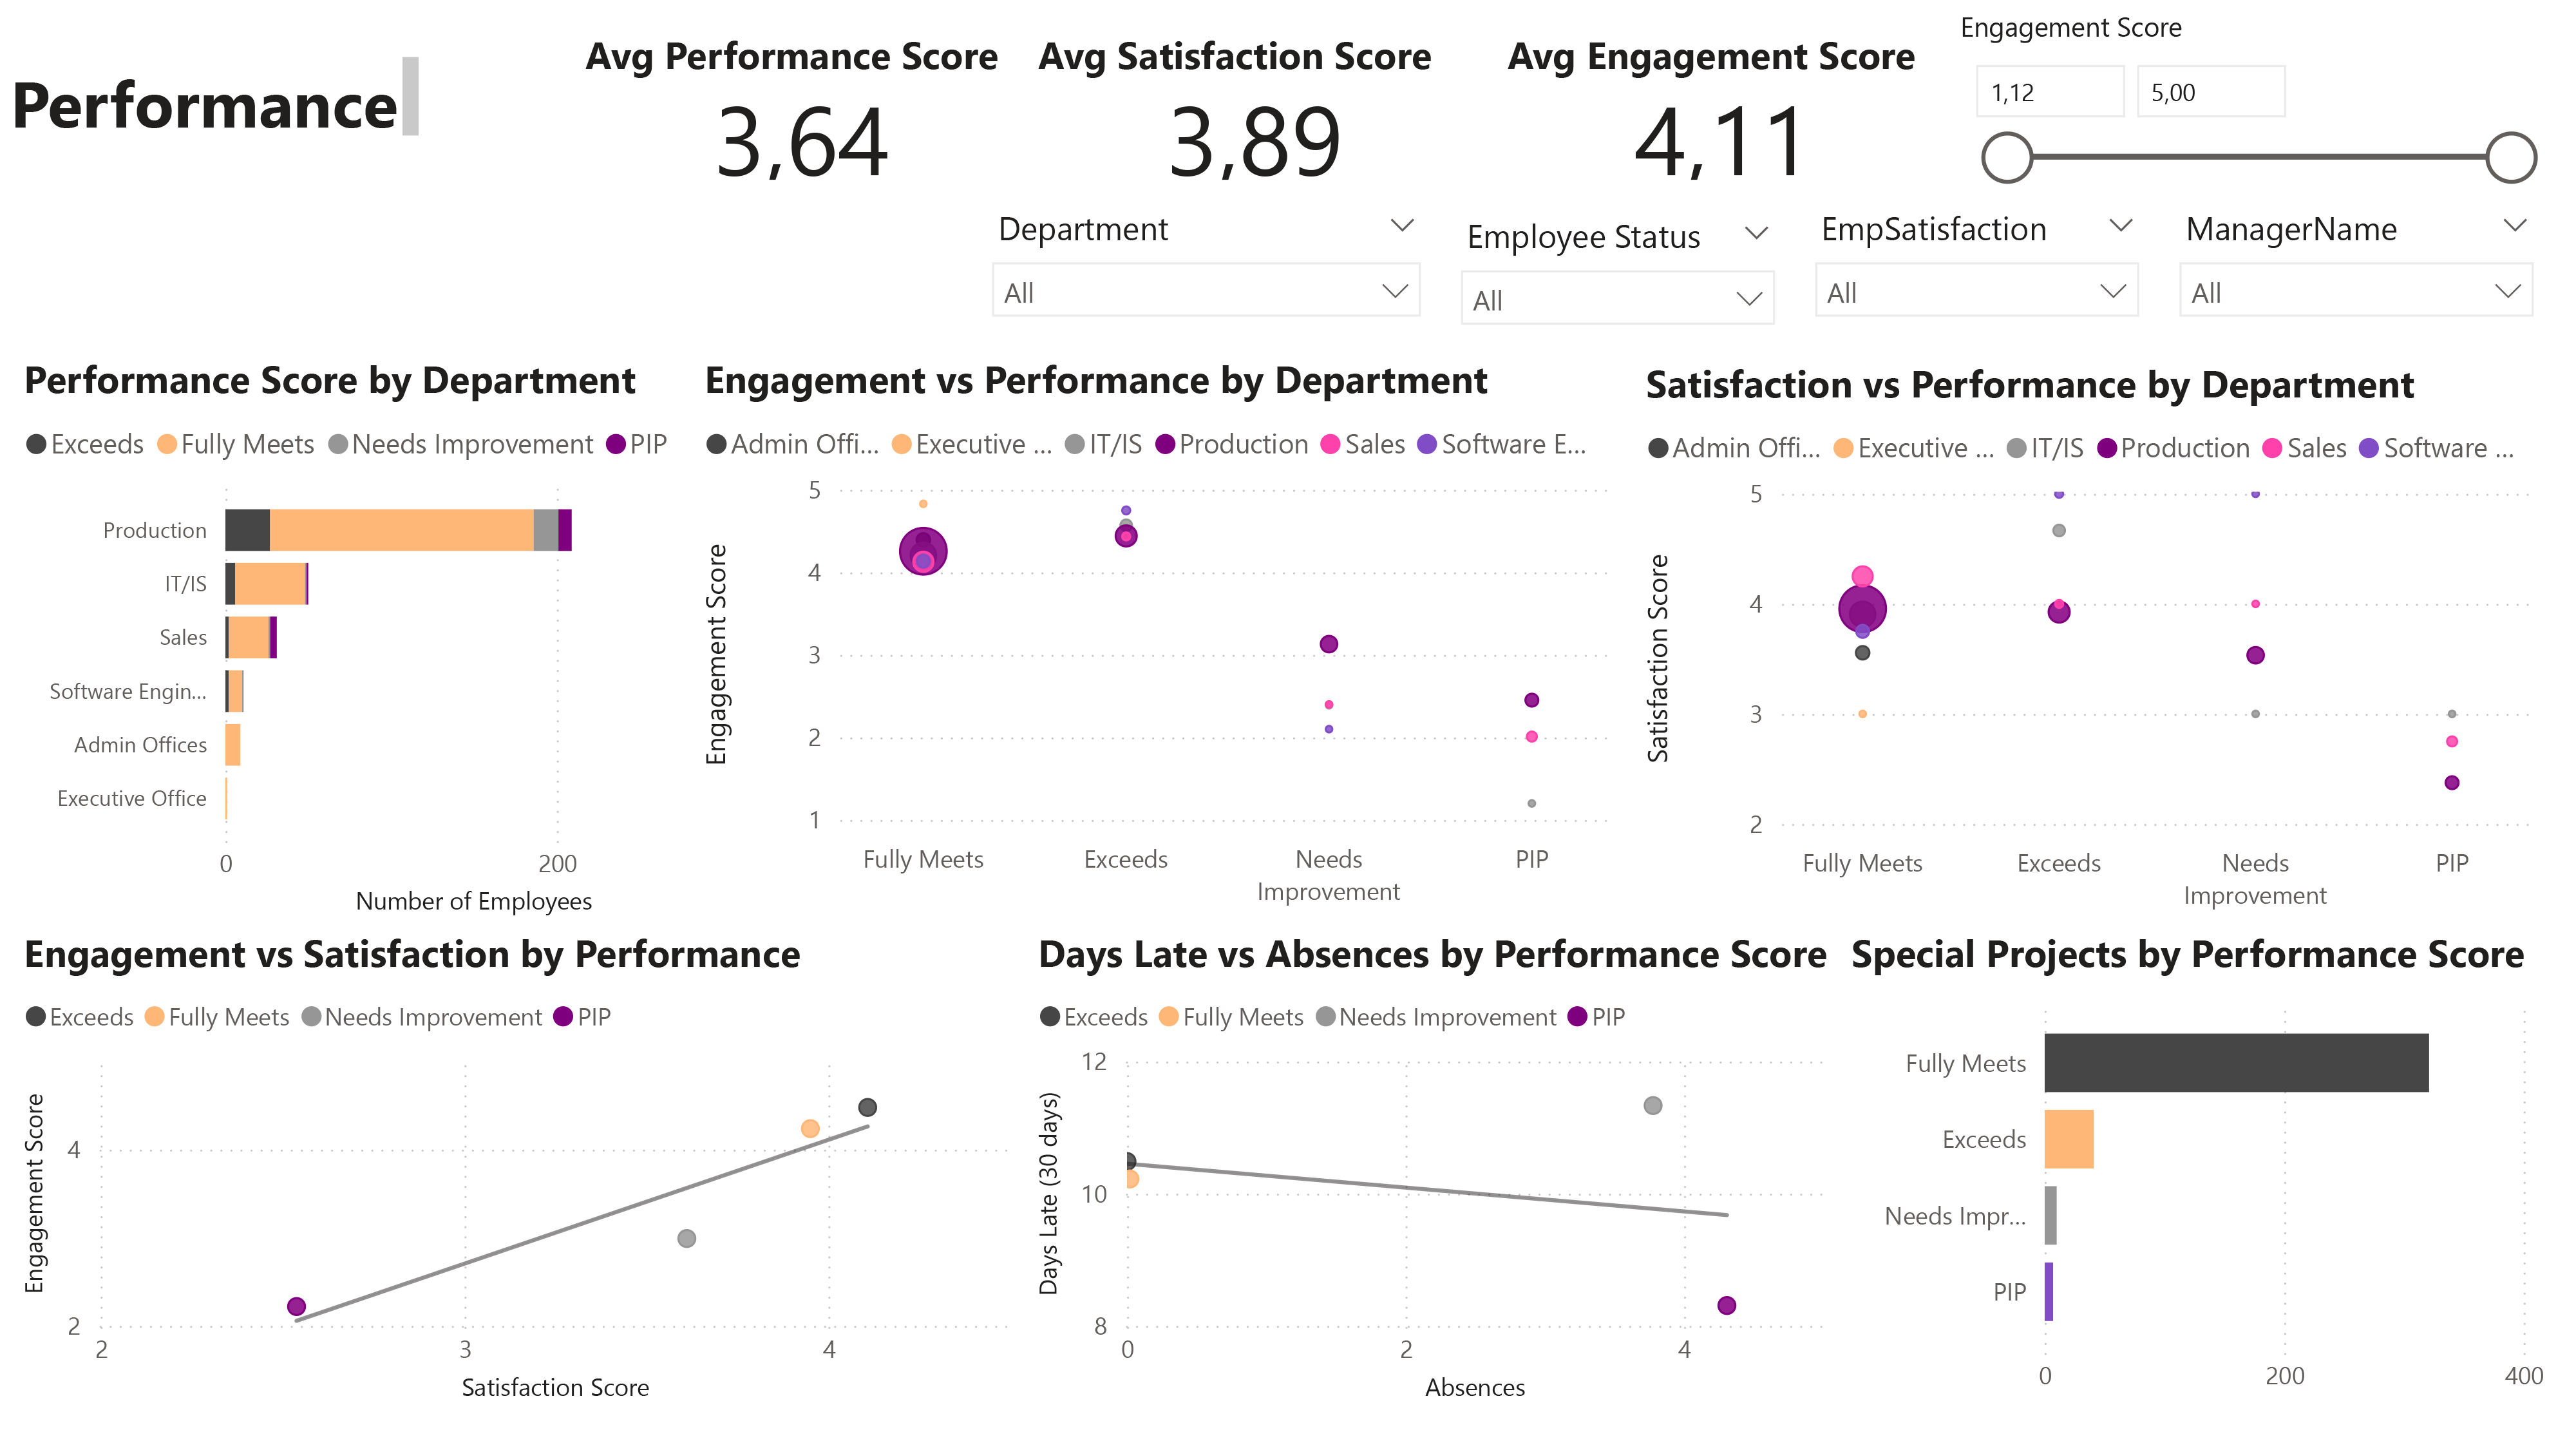

What the dashboard file says about the page in this screenshot:
{"tool":"powerbi","page":{"name":"Performance","canvas":[1280,720],"ordinal":3},"visuals":[{"type":"scatterChart","title":"Engagement vs Satisfaction by Performance","fields":{"X":["Avg(Performance.EmpSatisfaction)"],"Series":["Performance.PerformanceScore"],"Y":["Avg(Performance.EngagementSurvey)"]},"box":[7,460,504,241],"z":0},{"type":"scatterChart","title":"Satisfaction vs Performance by Department","fields":{"X":["Performance.PerformanceScore"],"Size":["CountNonNull(Performance.EmpID)"],"Y":["Avg(Performance.EmpSatisfaction)"],"Series":["Jobs.Department"]},"box":[813.4,177.3,455.4,282.7],"z":1000},{"type":"barChart","title":"Performance Score by Department","fields":{"Category":["Jobs.Department"],"Y":["CountNonNull(Performance.EmpID)"],"Series":["Performance.PerformanceScore"]},"box":[7,175,367.3,285],"z":2000},{"type":"card","title":"Avg Engagement Score","fields":{"Values":["Avg(Performance.EngagementSurvey)"]},"box":[743.8,13.8,225,80],"z":3000},{"type":"card","title":"Avg Satisfaction Score","fields":{"Values":["Avg(Performance.EmpSatisfaction)"]},"box":[511.2,13.8,225,80],"z":4000},{"type":"card","title":"Avg Performance Score","fields":{"Values":["Performance.Avg Performance Score"]},"box":[286.2,13.8,225,80],"z":5000},{"type":"scatterChart","title":"Days Late vs Absences by Performance Score","fields":{"X":["Avg(Performance.DaysLateLast30)"],"Y":["Performance.Absences"],"Series":["Performance.PerformanceScore"]},"box":[511,460,404.4,241],"z":6000},{"type":"barChart","title":"Special Projects by Performance Score","fields":{"Category":["Performance.PerformanceScore"],"Y":["Sum(Performance.SpecialProjectsCount)"]},"box":[915.4,460,353.4,241],"z":7000},{"type":"slicer","fields":{"Values":["Managers.ManagerName"]},"box":[1073,97.3,195.8,74.2],"z":9000},{"type":"slicer","fields":{"Values":["Performance.EmpSatisfaction"]},"box":[892.2,97.3,180.8,74.2],"z":10000},{"type":"slicer","title":"Engagement Score","fields":{"Values":["Performance.EngagementSurvey"]},"box":[968.8,3.8,300,90],"z":11000},{"type":"slicer","fields":{"Values":["EmploymentStatus.Employee Status"]},"box":[716.1,100.8,176.1,67.2],"z":12000},{"type":"slicer","fields":{"Values":["Jobs.Department"]},"box":[483.2,97.3,232.9,73],"z":13000},{"type":"textbox","box":[0,22.5,212.5,51.2],"z":14000},{"type":"scatterChart","title":"Engagement vs Performance by Department","fields":{"X":["Performance.PerformanceScore"],"Size":["CountNonNull(Performance.EmpID)"],"Series":["Jobs.Department"],"Y":["Performance.EngagementSurvey"]},"box":[345.3,175,468.1,282.7],"z":15000}]}

Visuals, with their boxes in screenshot pixels (x1, y1, x2, y2), scaled from the page's 1280x720 canvas onto the 2576x1450 screenshot:
"Engagement vs Satisfaction by Performance" scatterChart: 14/926/1028/1412
"Satisfaction vs Performance by Department" scatterChart: 1637/357/2553/926
"Performance Score by Department" barChart: 14/352/753/926
"Avg Engagement Score" card: 1497/28/1950/189
"Avg Satisfaction Score" card: 1029/28/1482/189
"Avg Performance Score" card: 576/28/1029/189
"Days Late vs Absences by Performance Score" scatterChart: 1028/926/1842/1412
"Special Projects by Performance Score" barChart: 1842/926/2553/1412
slicer - Managers.ManagerName: 2159/196/2553/345
slicer - Performance.EmpSatisfaction: 1795/196/2159/345
"Engagement Score" slicer: 1950/8/2553/189
slicer - EmploymentStatus.Employee Status: 1441/203/1795/338
slicer - Jobs.Department: 972/196/1441/343
textbox: 0/45/428/148
"Engagement vs Performance by Department" scatterChart: 695/352/1637/922
